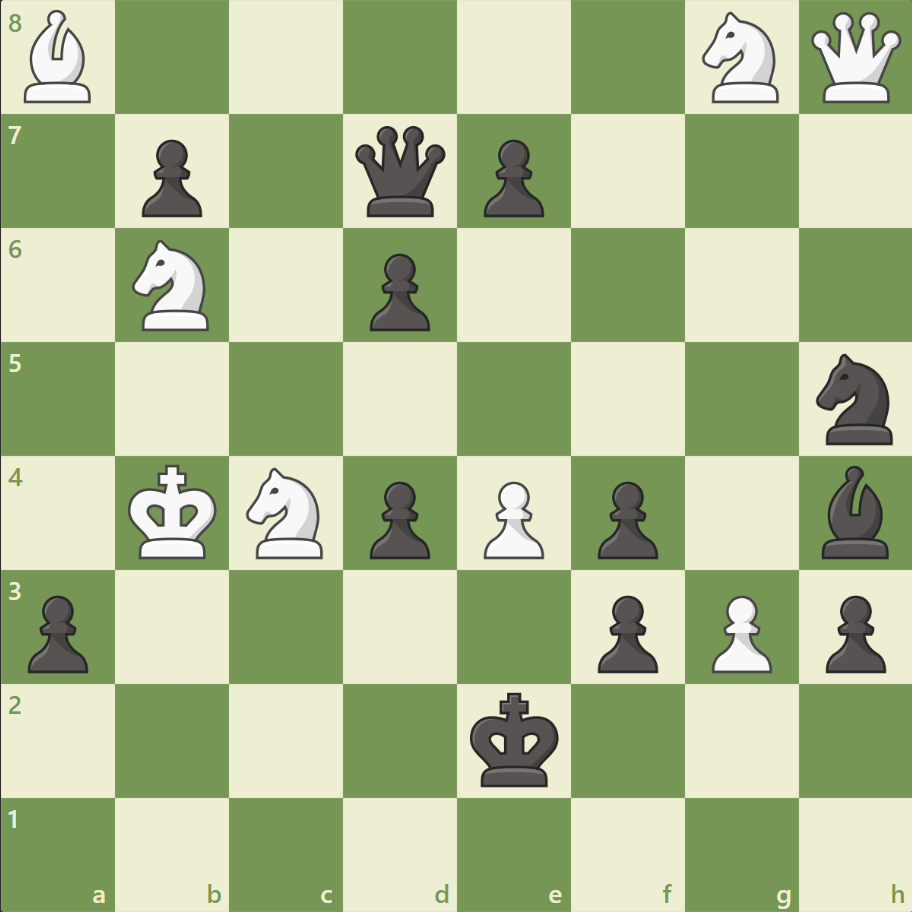B: (17, 6, 101, 109)
K: (124, 458, 224, 566)
N: (124, 234, 222, 337), (692, 7, 789, 110), (238, 461, 335, 564)
P: (474, 473, 549, 564), (701, 586, 776, 677)
Q: (805, 9, 904, 108)
b: (812, 460, 896, 563)
k: (465, 685, 565, 793)
n: (806, 348, 903, 450)
p: (133, 132, 208, 223), (474, 132, 549, 223), (20, 586, 95, 677), (361, 246, 435, 337), (361, 473, 435, 564), (588, 473, 662, 564), (588, 586, 662, 677), (815, 586, 889, 677)
q: (351, 122, 450, 222)
